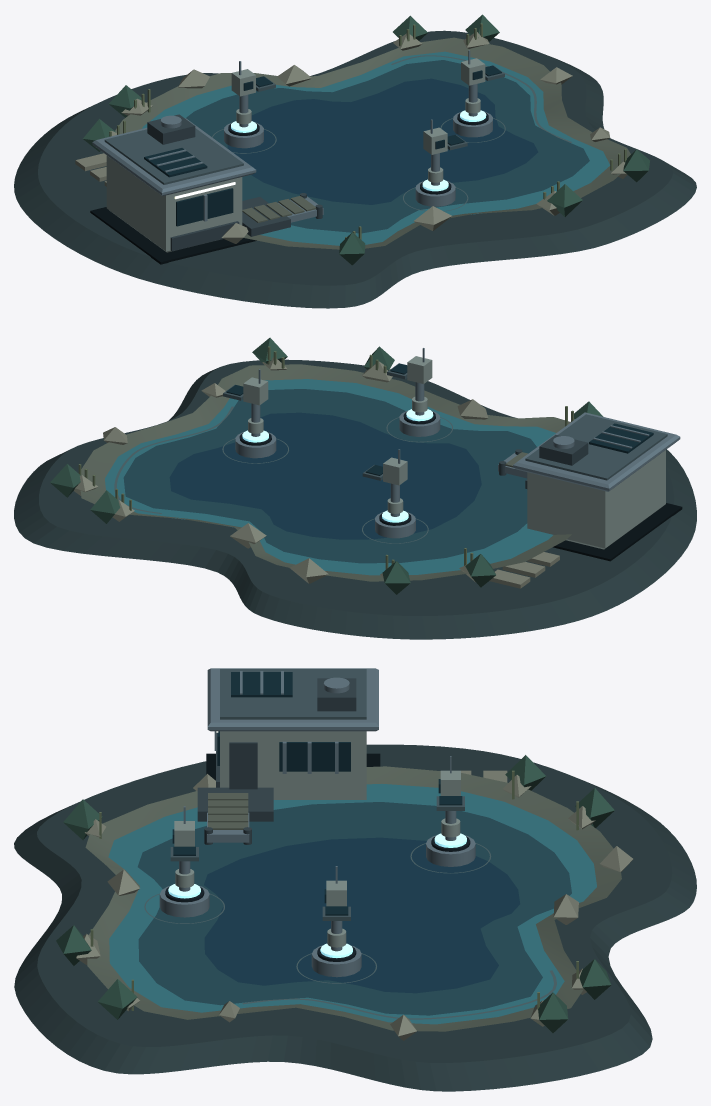
The model's file is district-limnopulse.glb.
3 renders of one model, top to bottom at view 1: azimuth 30°, elevation 25°; view 2: azimuth 150°, elevation 25°; view 3: azimuth 270°, elevation 25°, orthographic. The views are drawn at different scales.
Parts seen in each view (by area): view 1: regional-rise, basin-depth, basin-water, basin-shoreline, irregular-basin, shore-station, decoration-stone, decoration-foliage, decoration-roof, decoration-equipment, shore-roof, shore-contact (+11 smaller); view 2: regional-rise, basin-depth, basin-water, basin-shoreline, irregular-basin, shore-station, decoration-stone, decoration-foliage, decoration-roof, shore-roof, shore-contact, decoration-equipment (+9 smaller); view 3: regional-rise, basin-depth, basin-water, irregular-basin, basin-shoreline, shore-station, decoration-foliage, decoration-roof, decoration-stone, decoration-equipment, shore-roof, decoration-glass (+6 smaller).
Part boxes in pixels (x1,y1,x2,y2): regional-rise: (14, 30, 696, 308); basin-depth: (227, 78, 538, 204); basin-water: (186, 60, 589, 233); basin-shoreline: (115, 37, 630, 249); irregular-basin: (142, 51, 610, 245); shore-station: (106, 155, 242, 252); decoration-stone: (75, 32, 627, 243); decoration-foliage: (83, 14, 649, 265); decoration-roof: (104, 128, 243, 184); decoration-equipment: (147, 114, 322, 251); shore-roof: (92, 118, 256, 195); shore-contact: (90, 207, 256, 264); regional-rise: (14, 359, 696, 639); basin-depth: (169, 412, 481, 539); basin-water: (123, 389, 536, 563); basin-shoreline: (80, 364, 571, 581); irregular-basin: (105, 379, 555, 575); shore-station: (527, 450, 665, 549); decoration-stone: (74, 357, 574, 588); decoration-foliage: (50, 337, 603, 594); decoration-roof: (525, 414, 667, 480); shore-roof: (513, 412, 680, 491); shore-contact: (553, 503, 682, 561); decoration-equipment: (499, 434, 588, 488); regional-rise: (14, 744, 696, 1091); basin-depth: (204, 837, 520, 993); basin-water: (137, 802, 571, 1015); irregular-basin: (108, 784, 596, 1024); basin-shoreline: (85, 766, 621, 1031); shore-station: (220, 731, 366, 799); decoration-foliage: (56, 755, 614, 1032); decoration-roof: (220, 669, 366, 719); decoration-stone: (76, 770, 633, 1040); decoration-equipment: (197, 678, 356, 844); shore-roof: (207, 668, 378, 731); decoration-glass: (231, 672, 350, 771).
Size of the model in its own units: 7.46 by 1.3 by 6.29.
